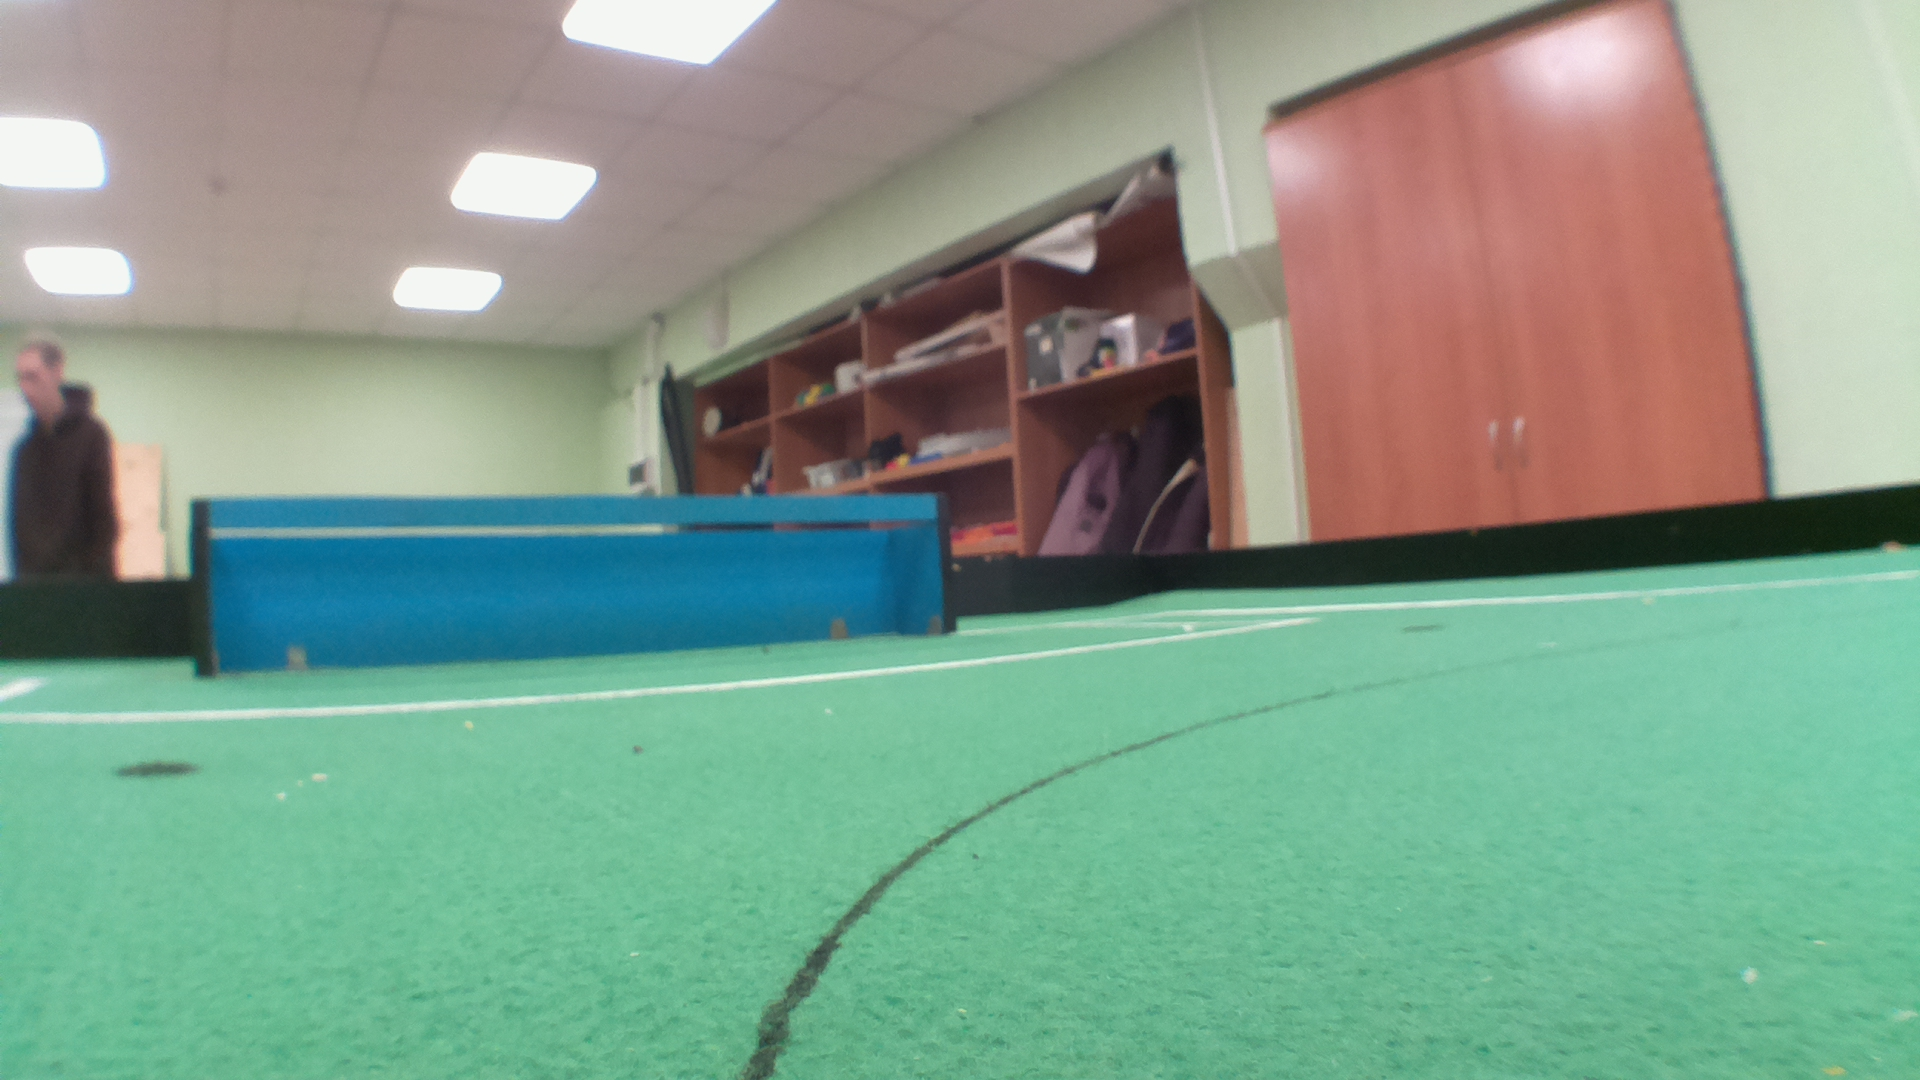BlueGoal: (206, 501, 934, 674)
